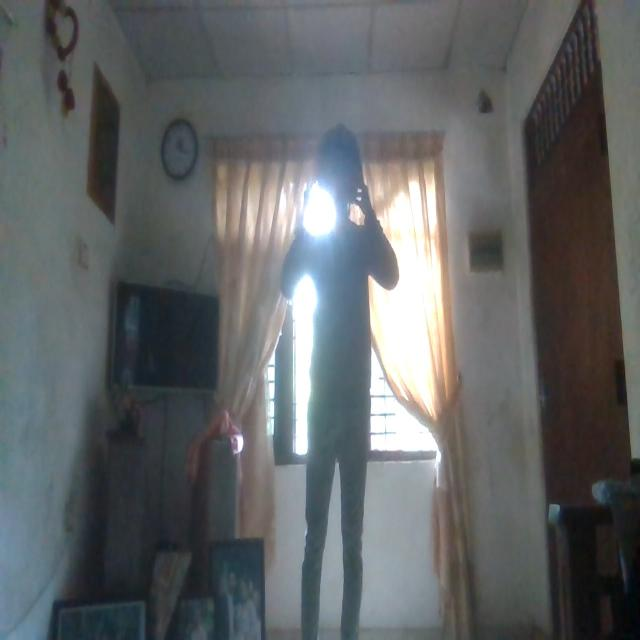Helmet_Wearer: (316, 127, 368, 220)
Person: (286, 121, 404, 640)
